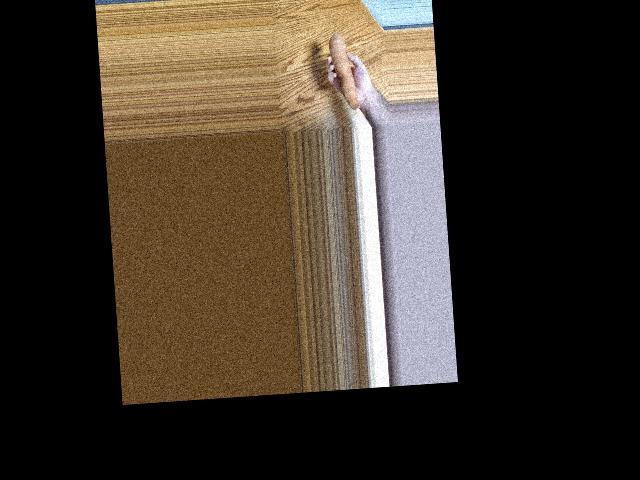sweet_potato: (324, 28, 362, 107)
